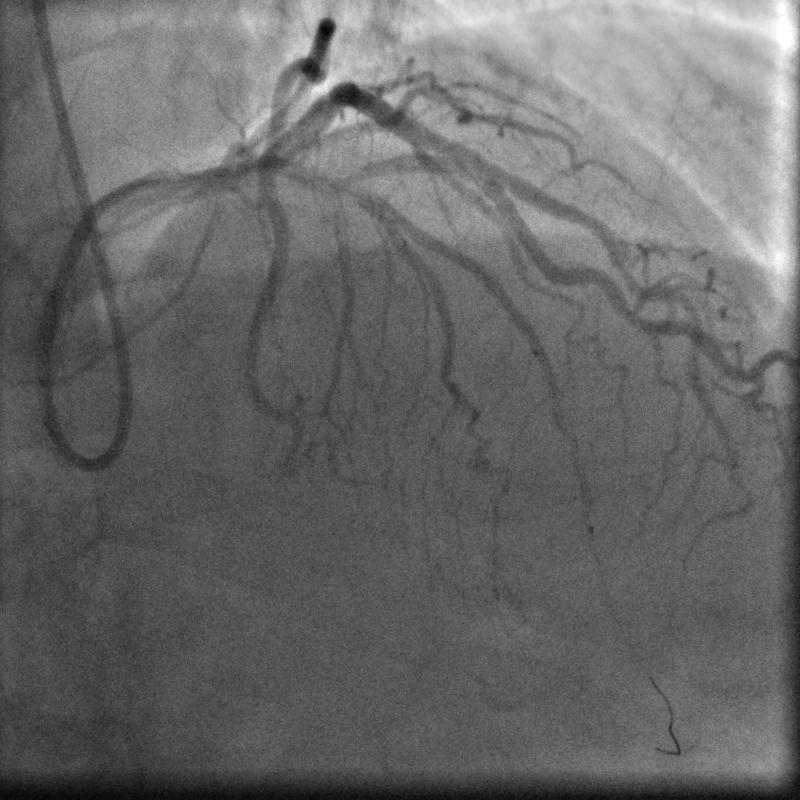Stenosis: (448, 148, 483, 187)
